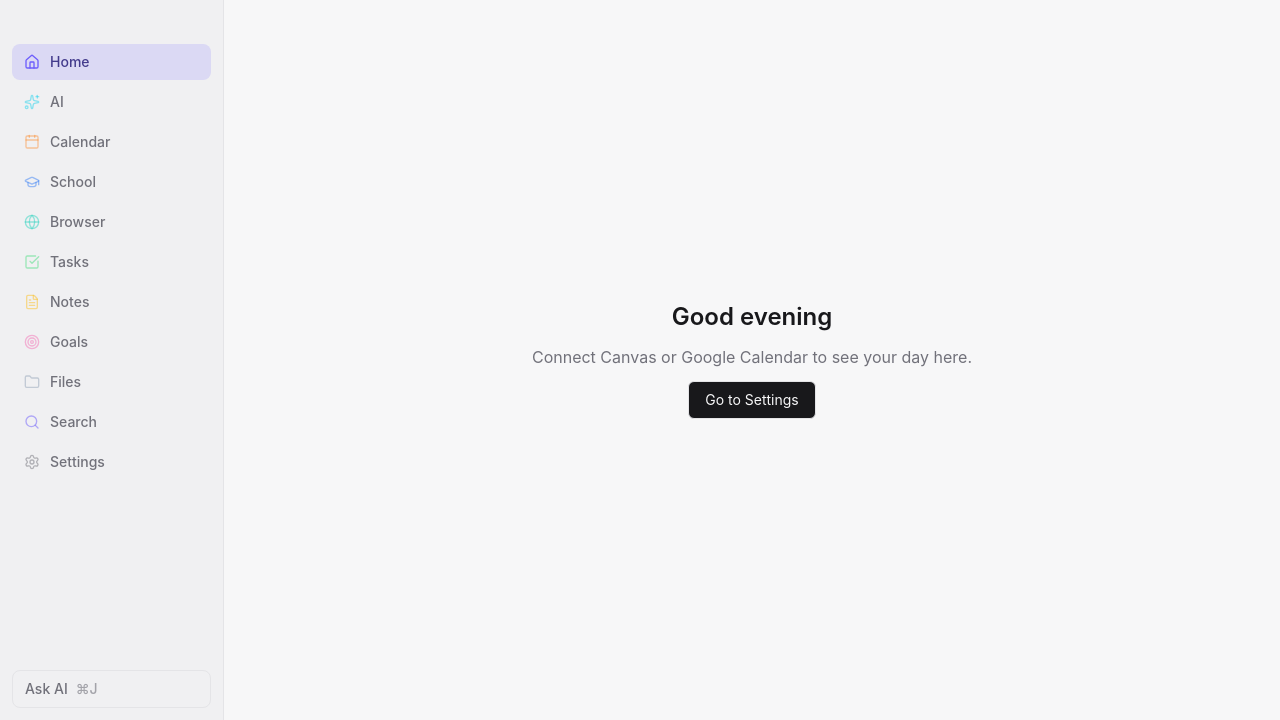
it: App › opens the command palette with Cmd+K and jumps to a section
expect the heading "Good evening" is shown: met, box [672, 301, 832, 333]
Type keys "{Meta>}k{/Meta}"
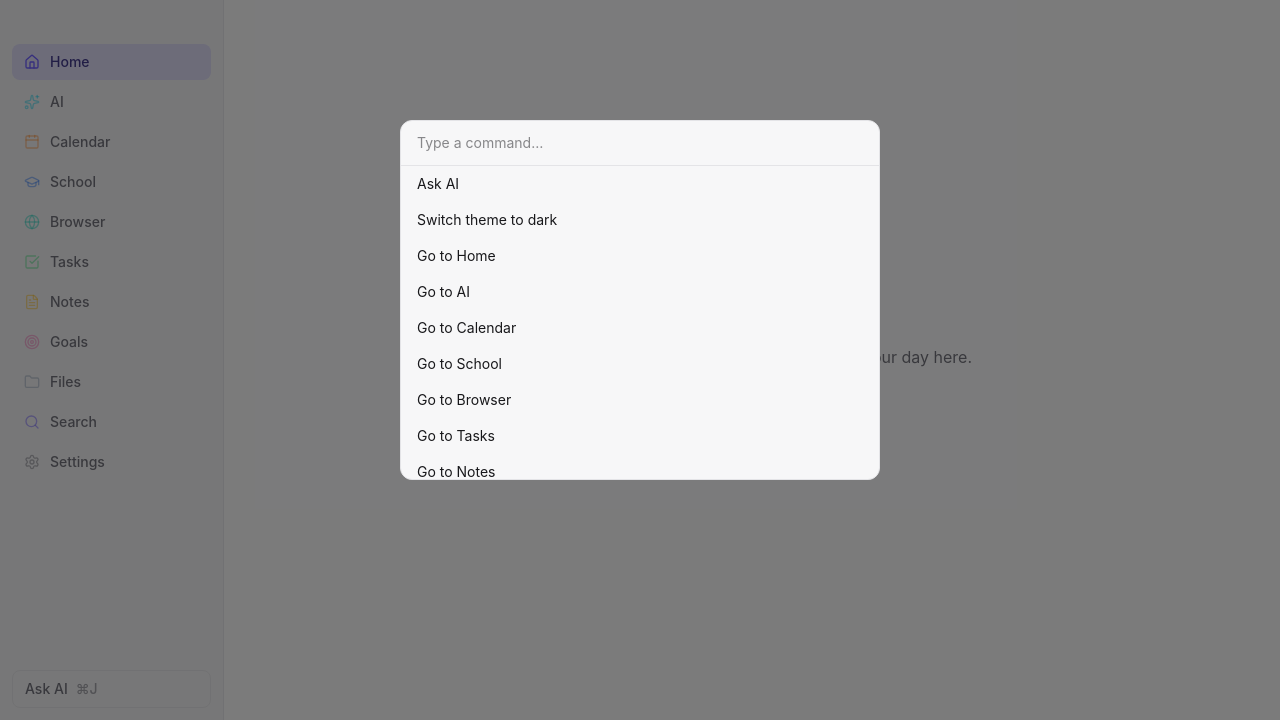
Type "Tasks" into the field with placeholder "Type a command…" at (640, 144), box [401, 121, 879, 166]
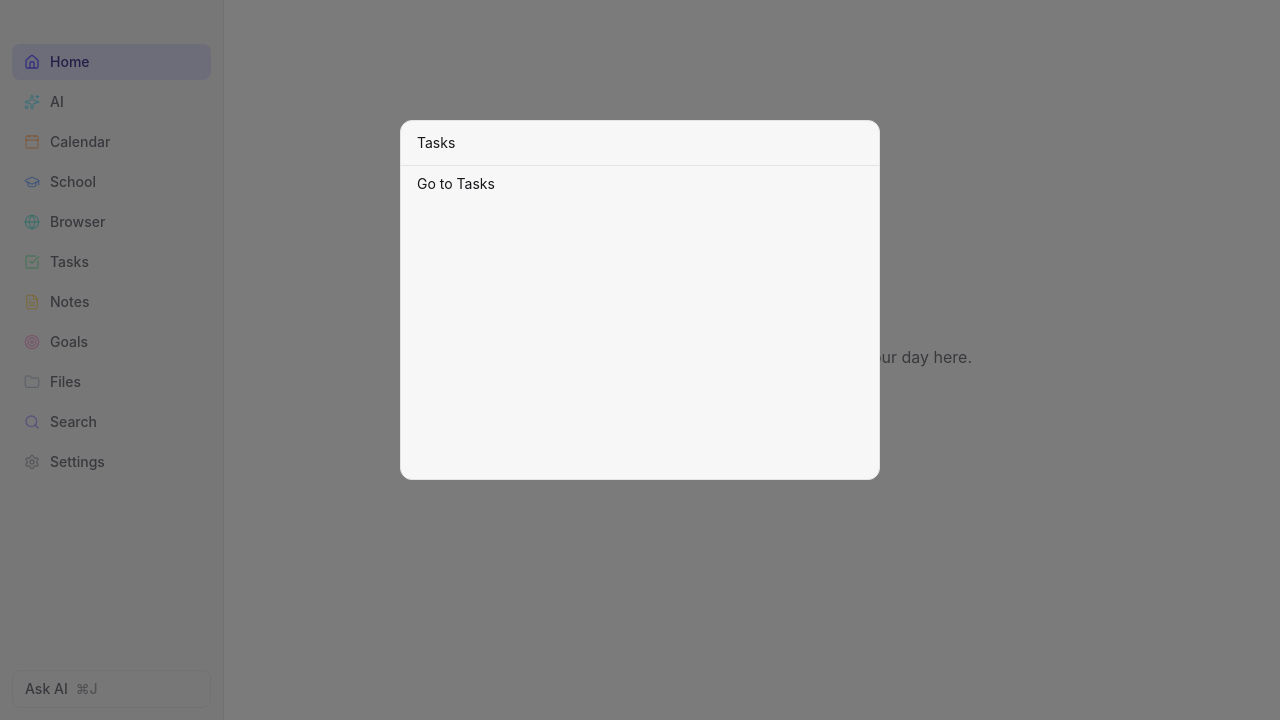
Click the button "Go to Tasks" at (456, 184), box [401, 166, 879, 202]
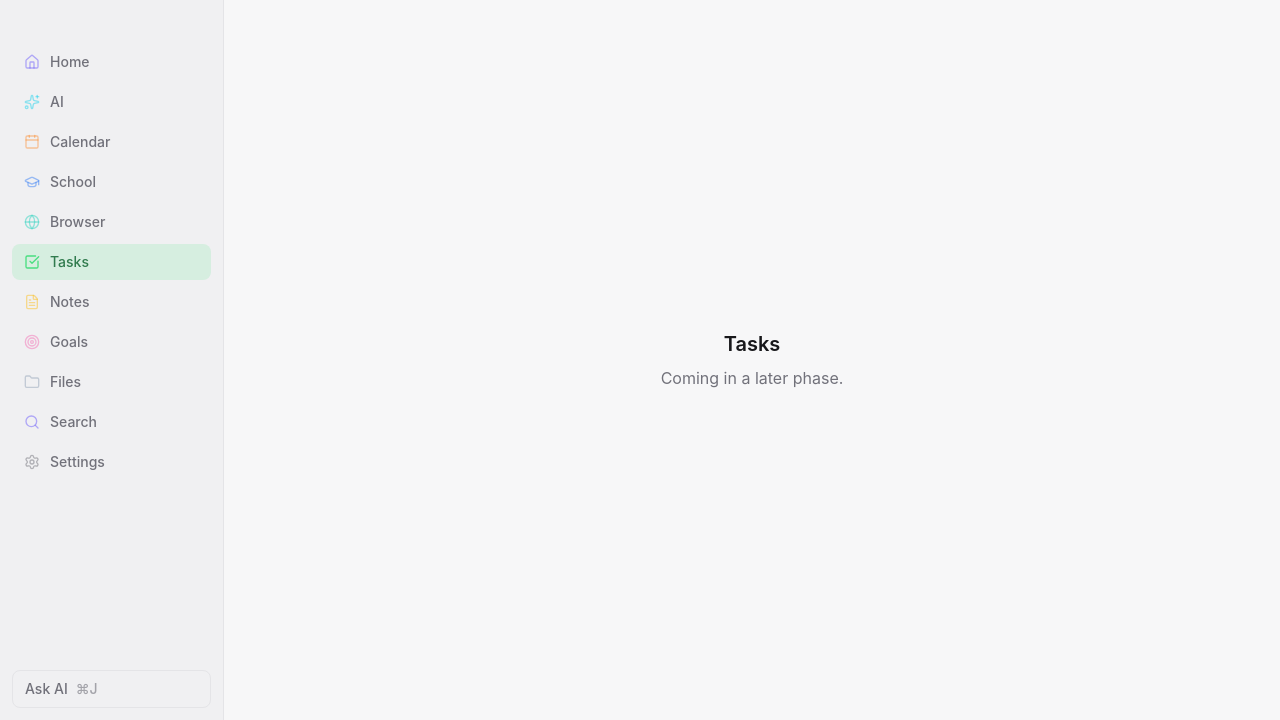
expect the text "Coming in a later phase." is shown: met, box [661, 366, 843, 390]
